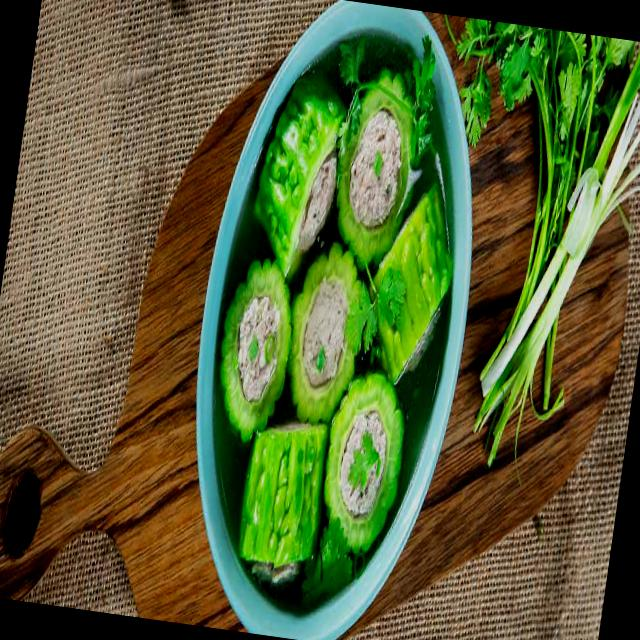kho qua: (254, 71, 345, 279), (373, 184, 452, 384), (324, 372, 404, 550), (289, 242, 368, 422), (239, 425, 328, 584), (337, 85, 415, 264), (221, 261, 291, 441)
